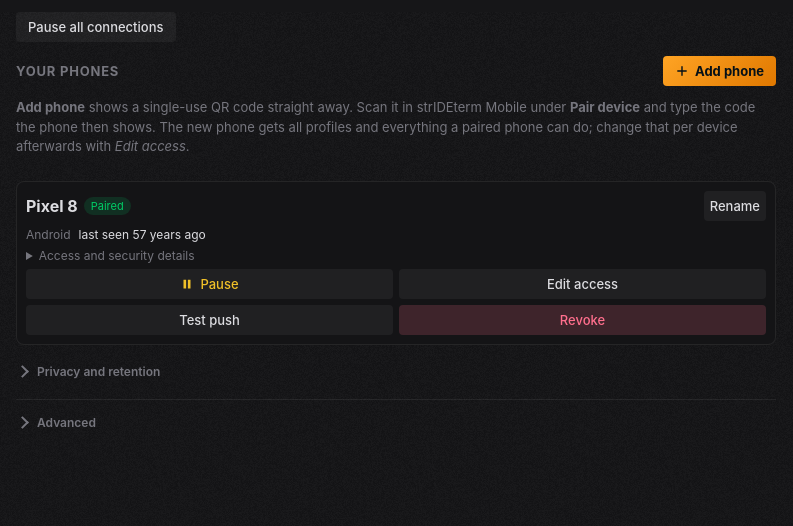
Test: SettingsMobileTab › renders the device list with platform, fingerprint, last seen, profiles, and capabilities
Step 1. Click the heading "Access and security details" → click(110, 255), box left=26, top=248, right=195, bottom=262
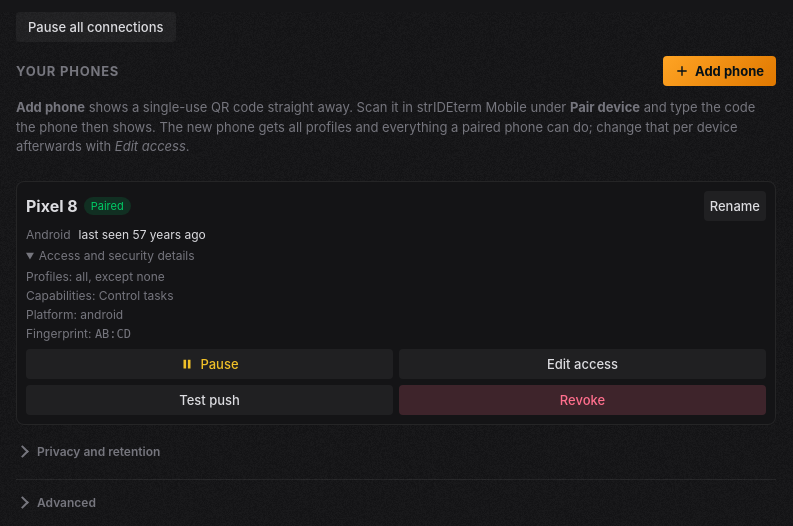
Check: the text "Profiles: all, except none" is shown, box left=26, top=268, right=165, bottom=284
Check: the text "AB:CD" is shown, box left=95, top=326, right=131, bottom=340
